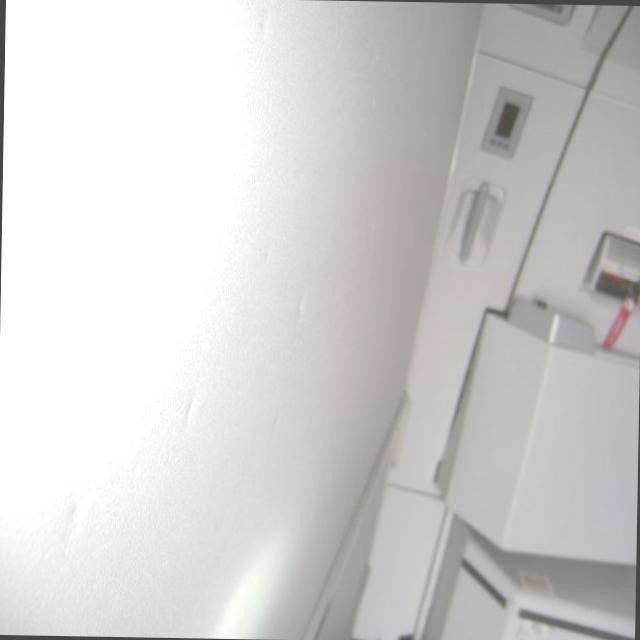dent: (62, 488, 100, 534), (252, 11, 276, 44), (290, 288, 310, 322), (182, 394, 200, 426), (259, 235, 273, 261), (269, 413, 283, 438)
